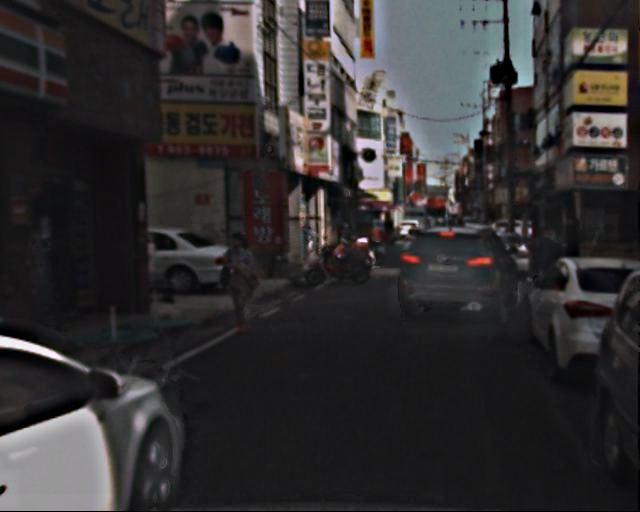person: (222, 230, 265, 334), (527, 224, 568, 313)
